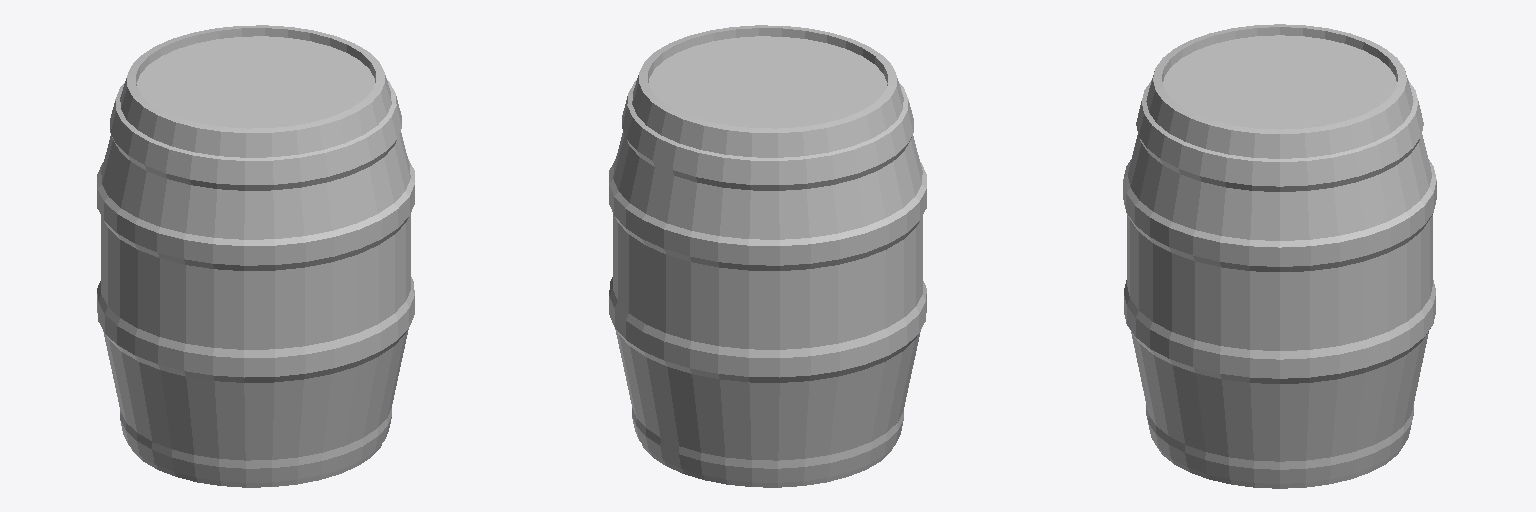
Rendered from barrel.obj.
3 views of the same model, side by side, from view 1: azimuth 30°, elevation 25°; view 2: azimuth 150°, elevation 25°; view 3: azimuth 270°, elevation 25° (orthographic).
Parts seen in each view (by area): view 1: Cylinder; view 2: Cylinder; view 3: Cylinder.
Boxes of the visible parts, <box> form: Cylinder: <box>97,25,414,487</box>; Cylinder: <box>609,25,926,487</box>; Cylinder: <box>1123,24,1436,488</box>.
Bounding box in the file's own units: 2.81 × 3.43 × 2.74.